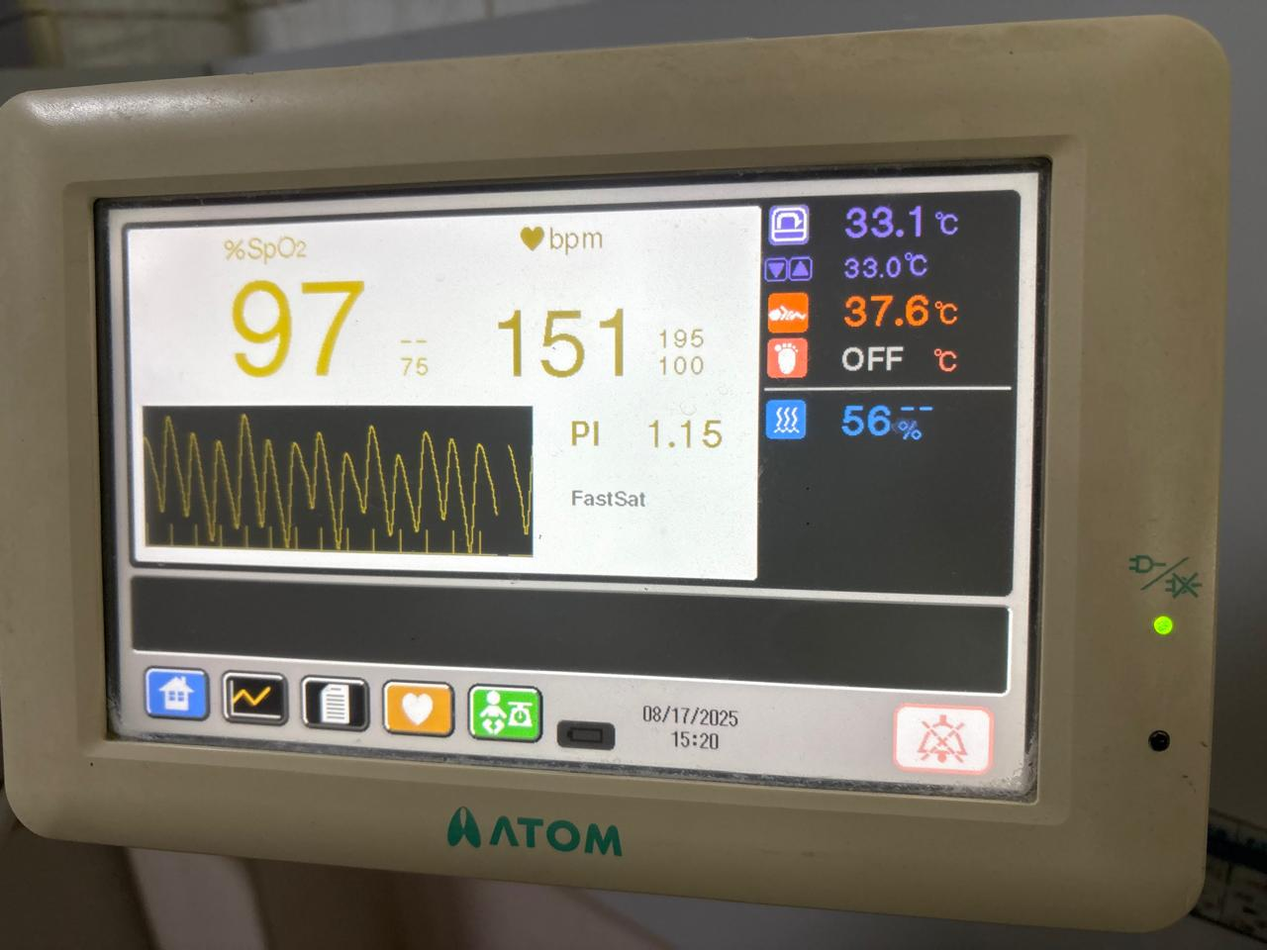air_temp_value: (824, 191, 933, 256)
heart_rate_value: (474, 303, 644, 387)
humidity_value: (829, 393, 898, 453)
skin_temp_value: (832, 282, 932, 345)
spo2_value: (210, 273, 373, 382)
